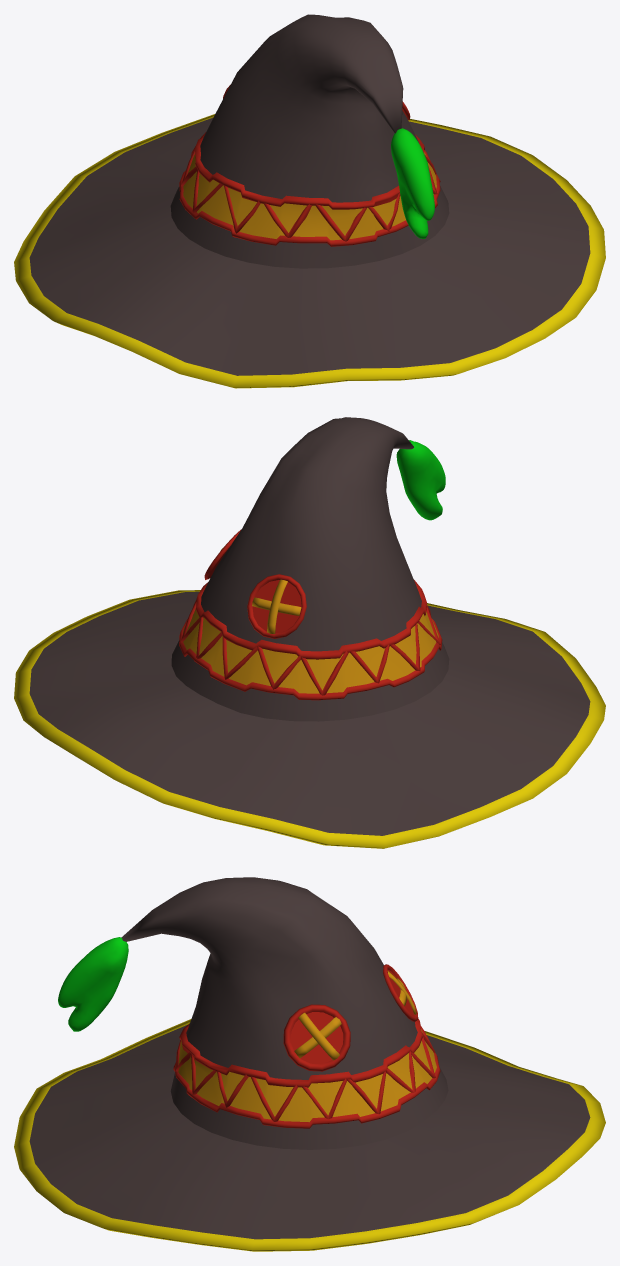
The model's file is meguminHat.fbx.
The picture shows the model from 3 angles, top to bottom: view 1: azimuth 30°, elevation 25°; view 2: azimuth 150°, elevation 25°; view 3: azimuth 270°, elevation 25°; orthographic projection.
Parts seen in each view (by area): view 1: Megumin's Hat.001; view 2: Megumin's Hat.001; view 3: Megumin's Hat.001.
Part boxes in pixels (x1,y1,x2,y2): Megumin's Hat.001: (14,14,605,388); Megumin's Hat.001: (14,417,605,848); Megumin's Hat.001: (14,877,605,1251).
Bounding box in the file's own units: 425 × 219 × 425.
